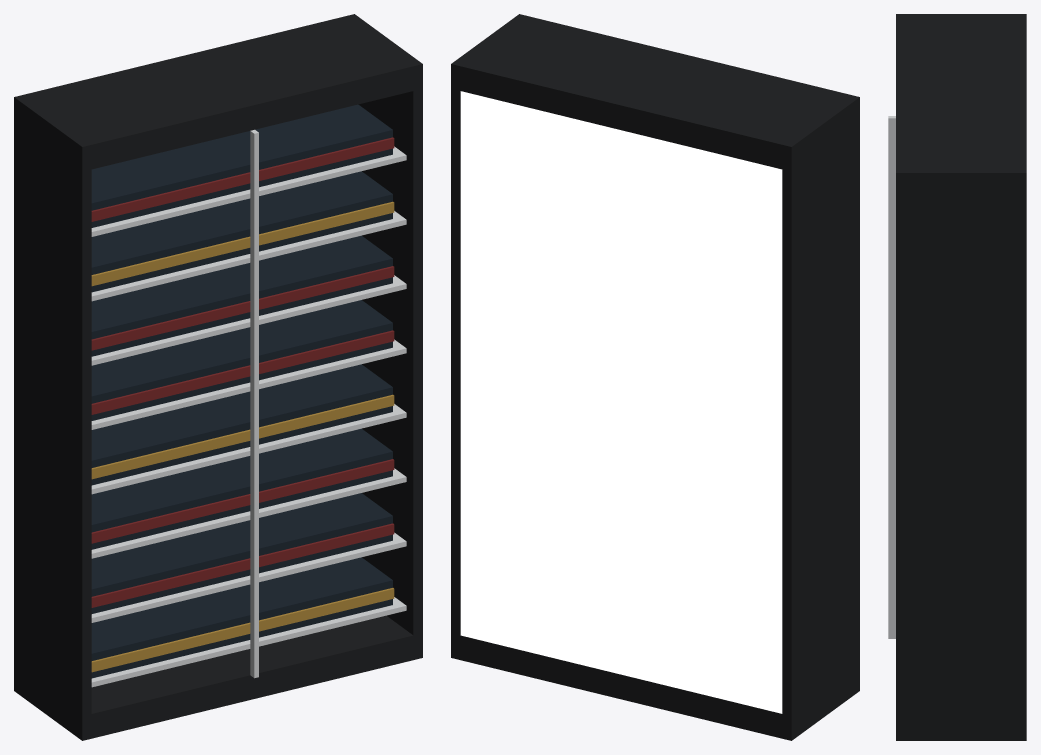
Rendered from wine_wall.glb.
The picture shows the model from 3 angles, left to right: view 1: azimuth 30°, elevation 25°; view 2: azimuth 150°, elevation 25°; view 3: azimuth 270°, elevation 25°; orthographic projection. The views are drawn at different scales.
Visible parts, largest first — view 1: wine_wall; view 2: wine_wall; view 3: wine_wall.
Part boxes in pixels (x1,y1,x2,y2): wine_wall: (14, 14, 422, 740); wine_wall: (451, 14, 859, 740); wine_wall: (888, 14, 1026, 740).
Size of the model in its own units: 1.44 by 2.4 by 0.53.
Materials: 1 (1 with a texture image).
